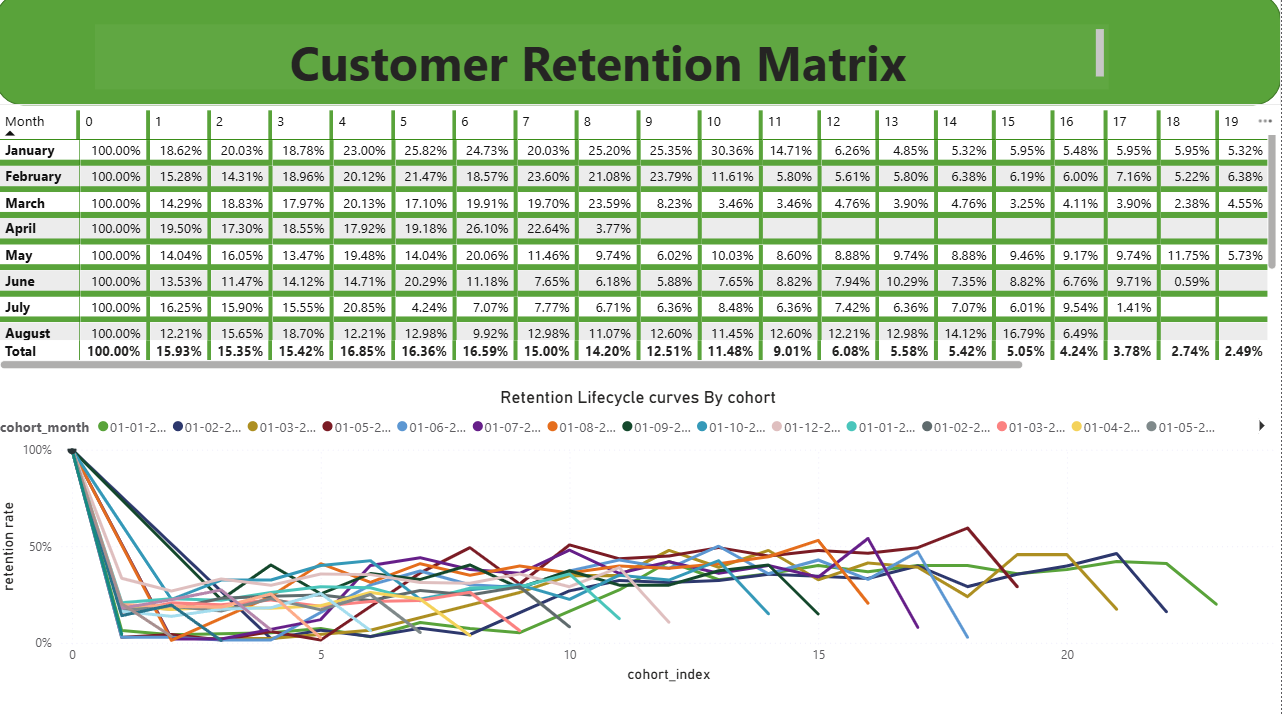

What the dashboard file says about the page in this screenshot:
{"tool":"powerbi","page":{"name":"Customer_retention_Matrix","canvas":[1280,720],"ordinal":1},"visuals":[{"type":"pivotTable","fields":{"Rows":["cohort_data.cohort_month.Variation.Date Hierarchy.Month"],"Values":["RFM data.retention rate"],"Columns":["cohort_data.cohort_index"]},"box":[0,112,1280,267.5],"z":0},{"type":"lineChart","title":"Retention Lifecycle curves By cohort ","fields":{"Category":["cohort_data.cohort_index"],"Series":["cohort_data.cohort_month"],"Y":["RFM data.retention rate"]},"box":[0,391.8,1280,298.6],"z":1000},{"type":"shape","box":[0,0,1280,112],"z":2000},{"type":"textbox","box":[99.5,31.1,1008.9,64.7],"z":3000}]}

Visuals, with their boxes in screenshot pixels (x1, y1, x2, y2), scaled from the page's 1280x720 canvas onto the 1282x715 screenshot:
pivotTable - cohort_data.cohort_month.Variation.Date Hierarchy.Month x RFM data.retention rate: l=0, t=111, r=1281, b=377
"Retention Lifecycle curves By cohort " lineChart: l=0, t=389, r=1281, b=686
shape: l=0, t=0, r=1281, b=111
textbox: l=100, t=31, r=1110, b=95
